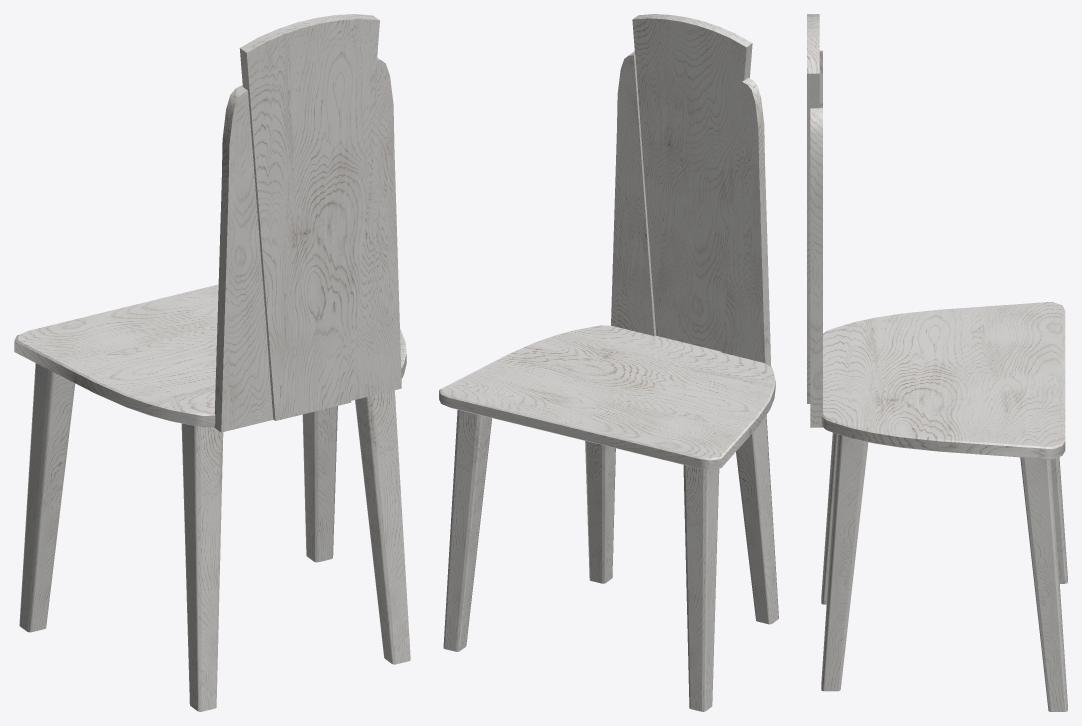
The model's file is chair_B_c02.fbx.
3 views of the same model, side by side, from view 1: azimuth 30°, elevation 25°; view 2: azimuth 150°, elevation 25°; view 3: azimuth 270°, elevation 25° (orthographic). The views are drawn at different scales.
Parts seen in each view (by area): view 1: chair_B_c02; view 2: chair_B_c02; view 3: chair_B_c02.
Part boxes in pixels (x1,y1,x2,y2): chair_B_c02: (14, 14, 410, 711); chair_B_c02: (439, 14, 778, 711); chair_B_c02: (807, 14, 1067, 711).
Bounding box in the file's own units: 49.76 × 96.24 × 37.25.
1 material, 1 textured.
